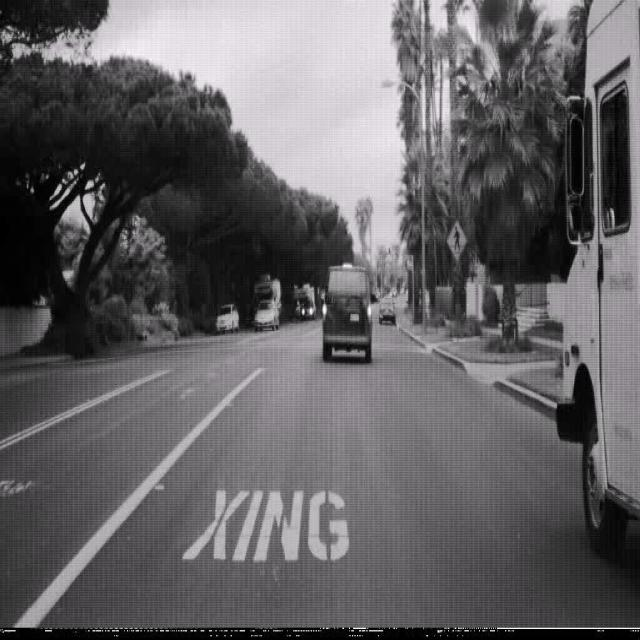pedestrianCrossing: (445, 218, 468, 262)
